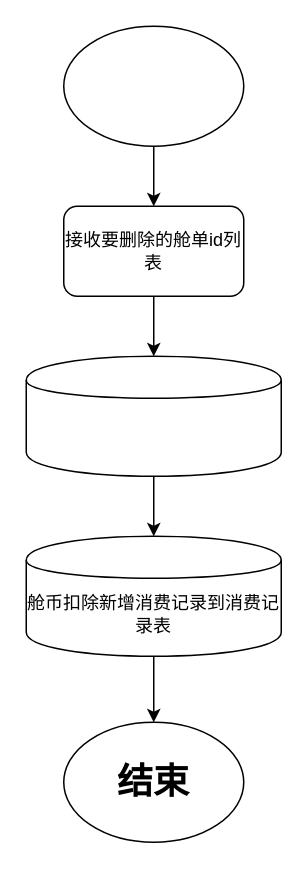
Some shapes in this 308 by 869 pixel diagram are drawn without their labels. Each missing label, with the centre of its shape:
开始: [153,85]
把删除的舱单信息存入舱单删改表: [153,415]
